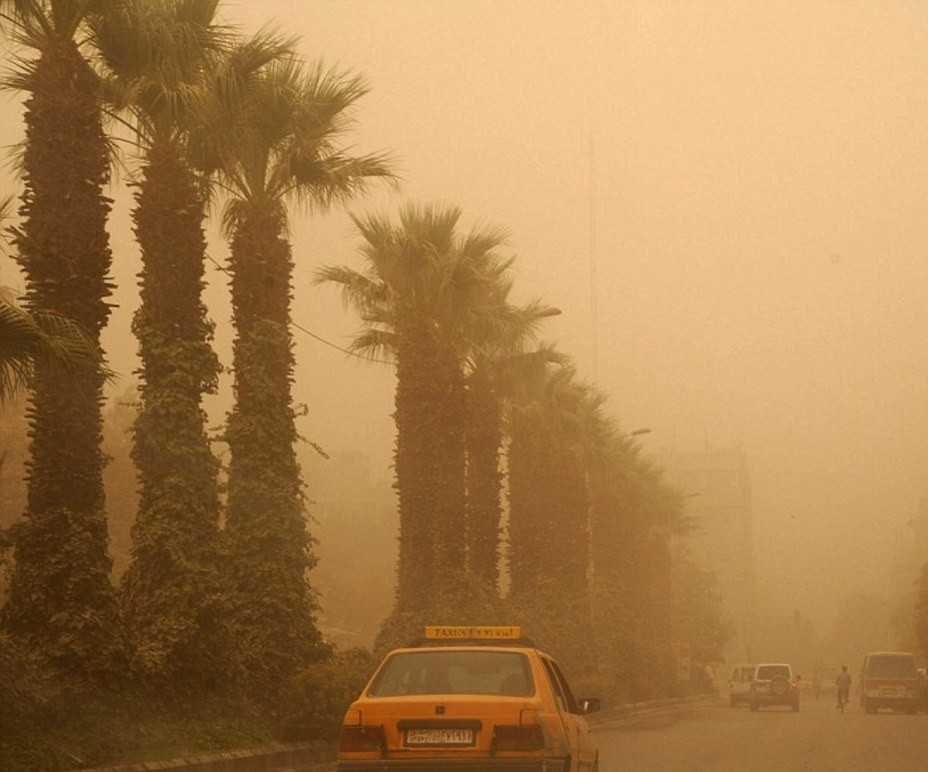bicycle: (837, 687, 848, 711)
car: (331, 638, 604, 771), (859, 650, 922, 715), (751, 662, 801, 712), (727, 663, 754, 709), (798, 668, 820, 699), (819, 666, 834, 696)
person: (836, 663, 853, 704)
